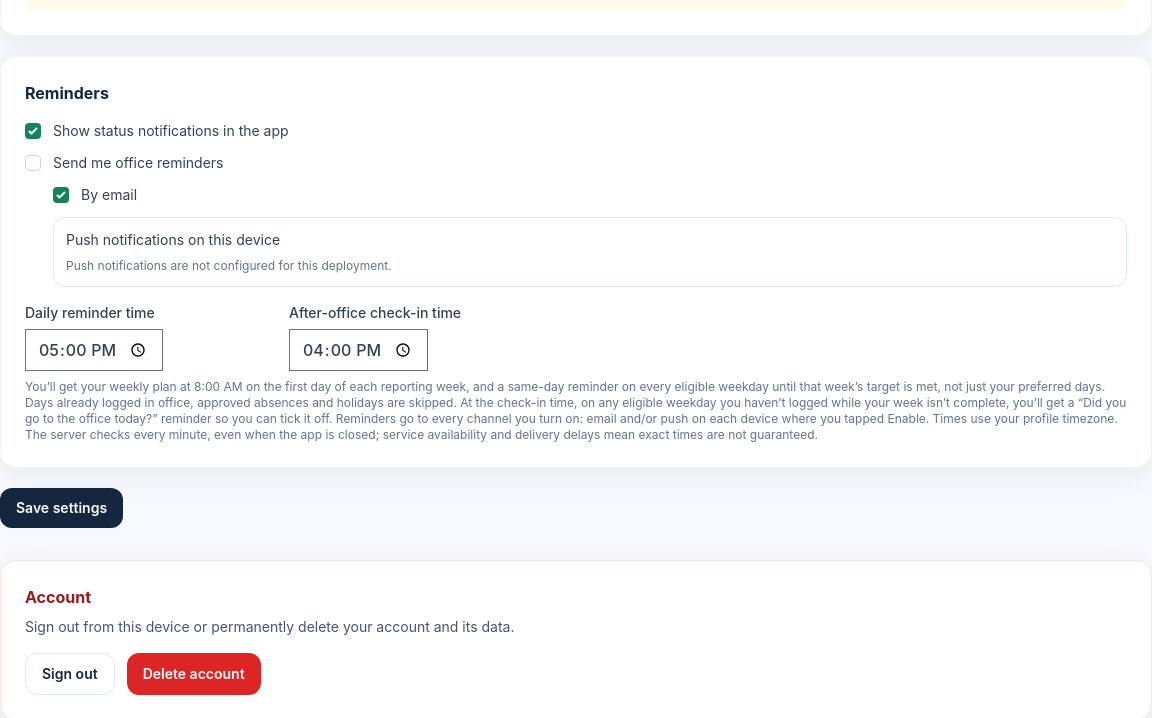
Test case: Settings › saves profile, location, preferences, and the active policy
This screenshot has width=1152, height=718.
(page scrolled)
Click the button "Save settings" at (62, 508), box x1=0 y1=488 x2=123 y2=528
(page scrolled)
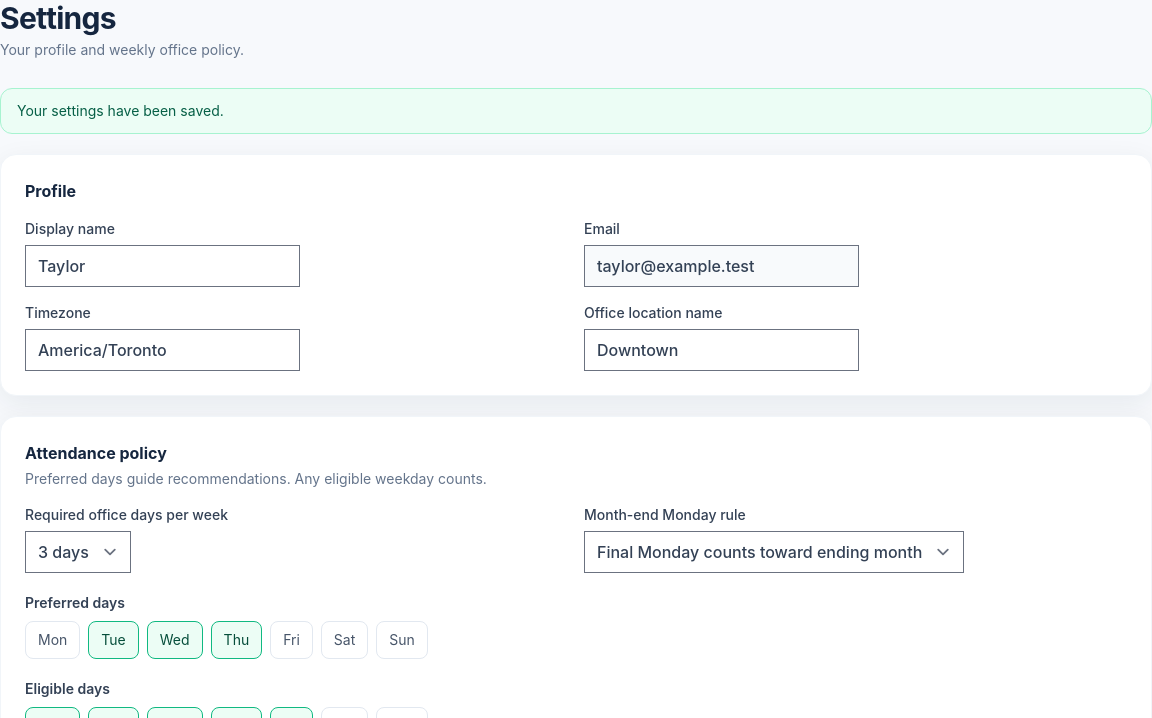
Expected: the message reads "Your settings have been saved.", x1=17 y1=102 x2=224 y2=119
